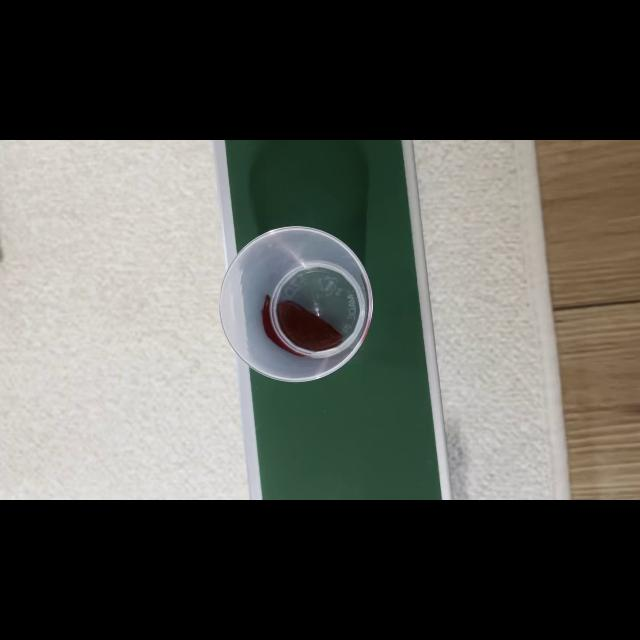dirty: (220, 227, 372, 385)
